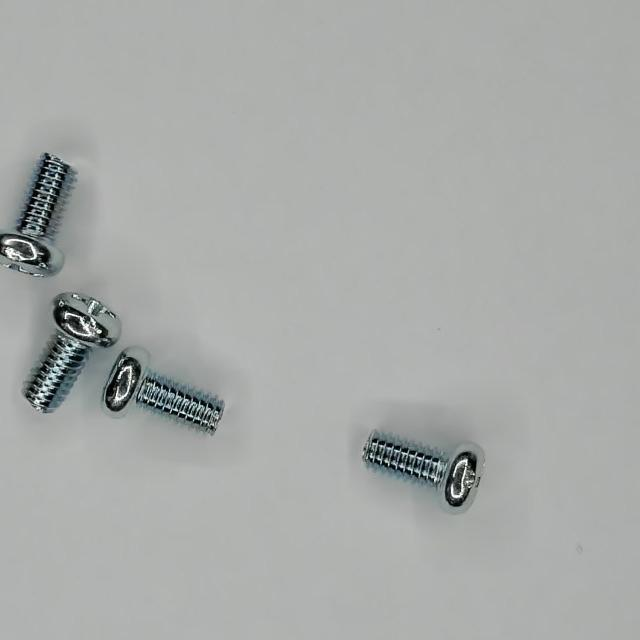Screw: (23, 293, 121, 414), (103, 348, 223, 434), (363, 432, 485, 512), (0, 153, 76, 276)
